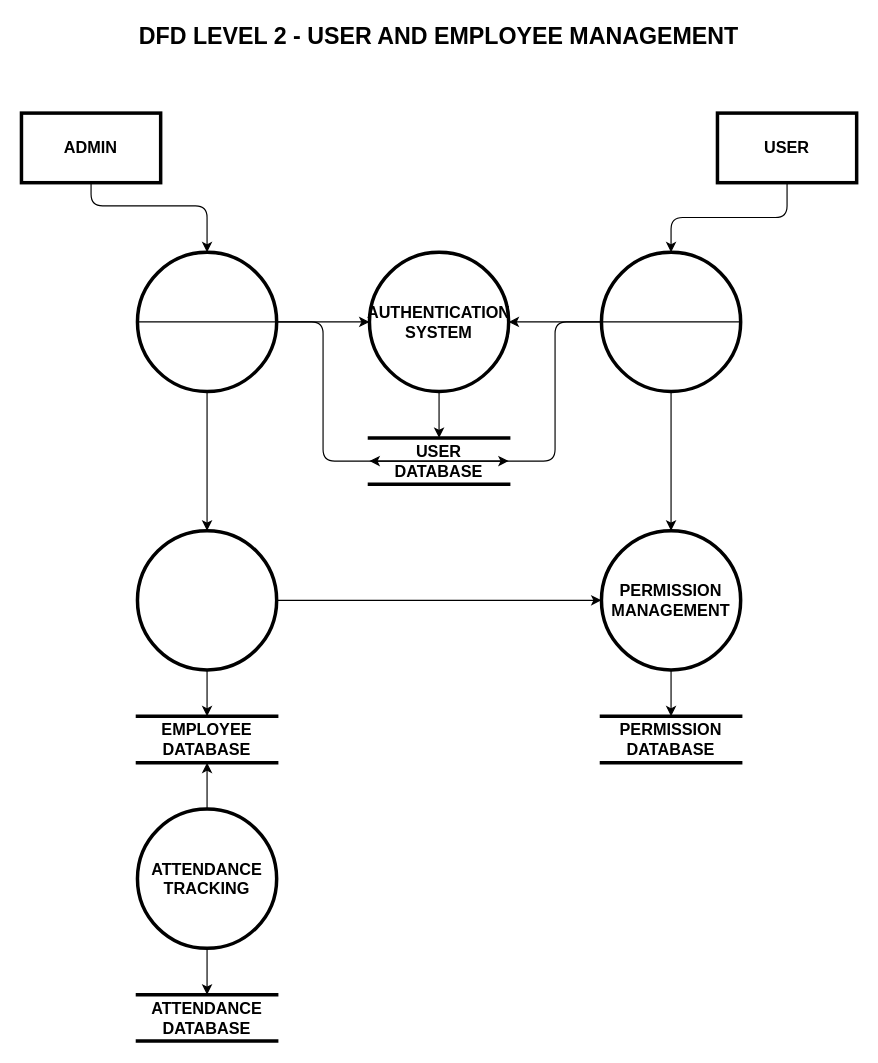
The diagram is 878 pixels wide and 1063 high, and some of its shapes have lost their labels. The centre of each missing label's shape, as x and y in pixels:
EMPLOYEE MANAGEMENT: point 206,599
MANAGE USERS: point 206,321
USER REGISTRATION: point 670,321
